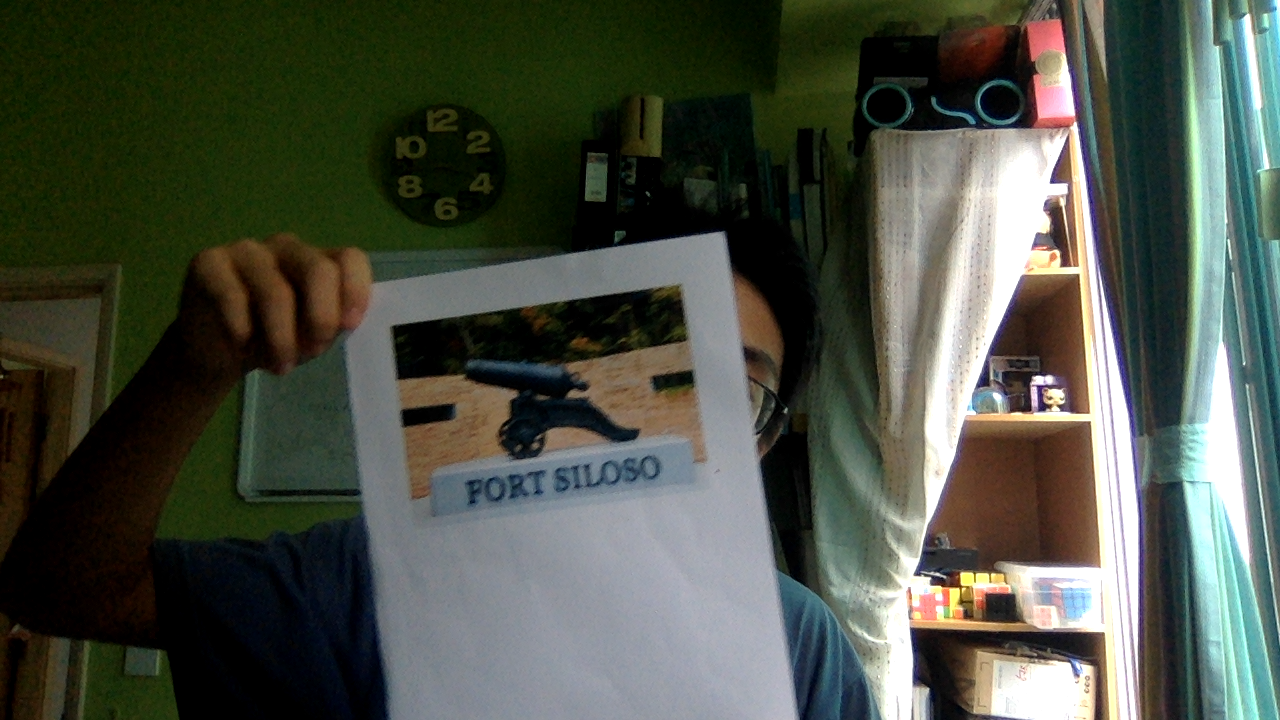siloso: (399, 315, 710, 498)
